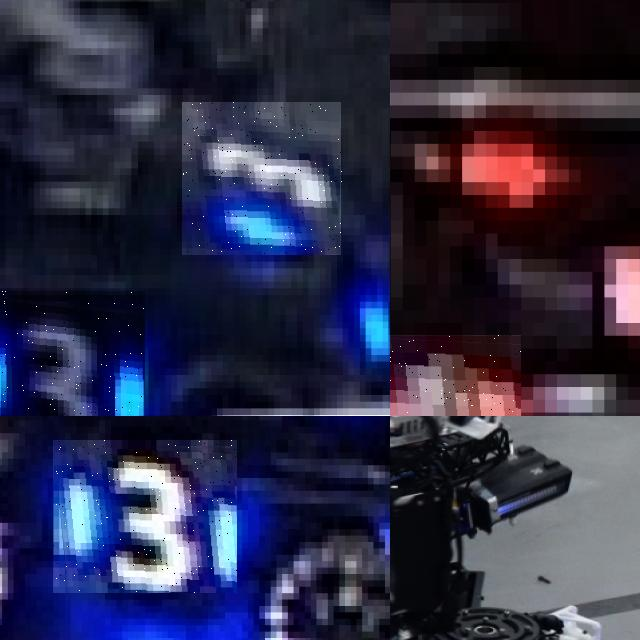B3: (53, 440, 237, 593), (182, 102, 342, 255), (0, 291, 145, 416)
R4: (390, 335, 521, 416)
